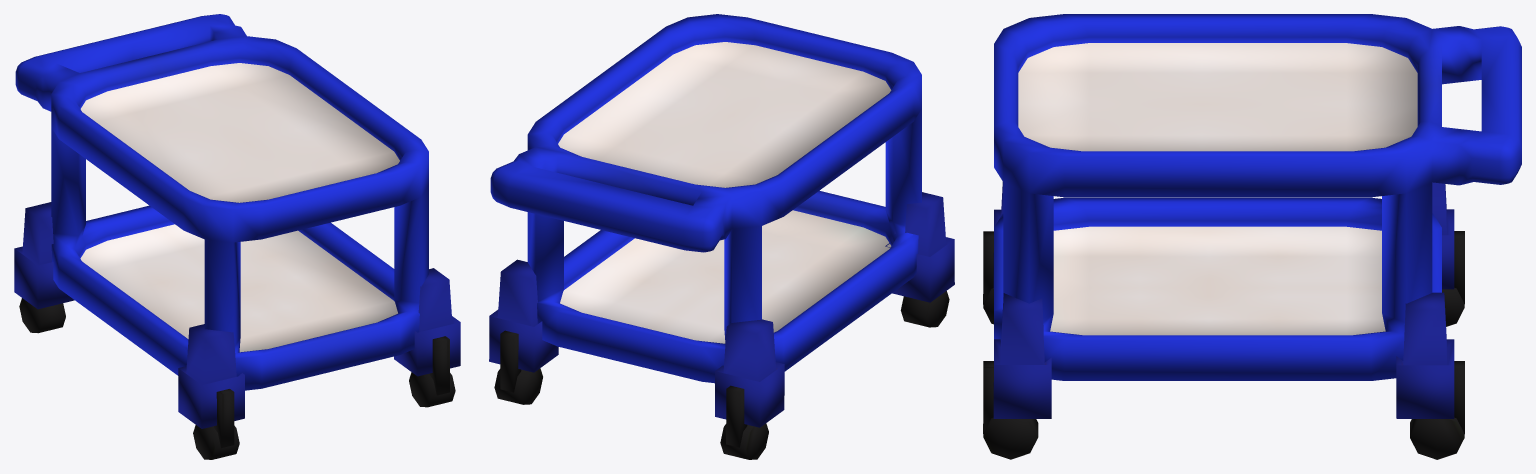
File: MesaInstrumentos.fbx
3 views of the same model, side by side, from view 1: azimuth 30°, elevation 25°; view 2: azimuth 150°, elevation 25°; view 3: azimuth 270°, elevation 25° (orthographic). The views are drawn at different scales.
Visible parts, largest first — view 1: MesaInstrumentos; view 2: MesaInstrumentos; view 3: MesaInstrumentos.
Boxes of the visible parts, bbox=[...] form: MesaInstrumentos: bbox=[14, 14, 460, 459]; MesaInstrumentos: bbox=[489, 14, 954, 459]; MesaInstrumentos: bbox=[983, 14, 1521, 459].
Size of the model in its own units: 72.36 by 65.43 by 106.
Materials: 1 (1 with a texture image).
